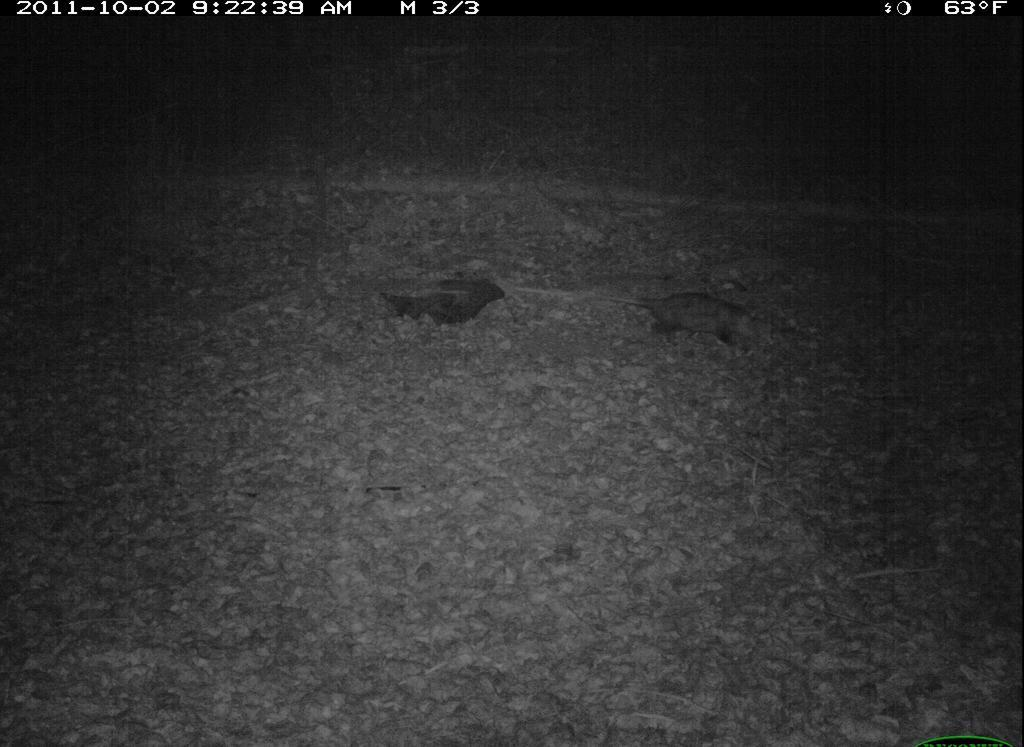opossum: (584, 275, 799, 361)
